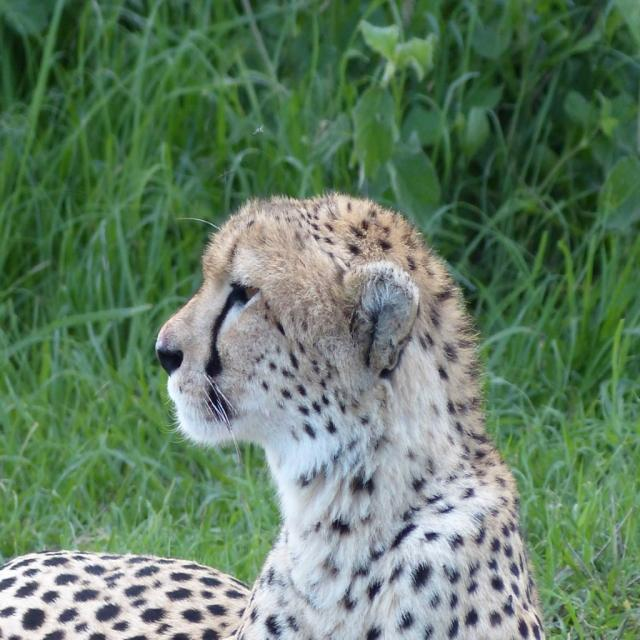Cheetah: (0, 192, 545, 639)
